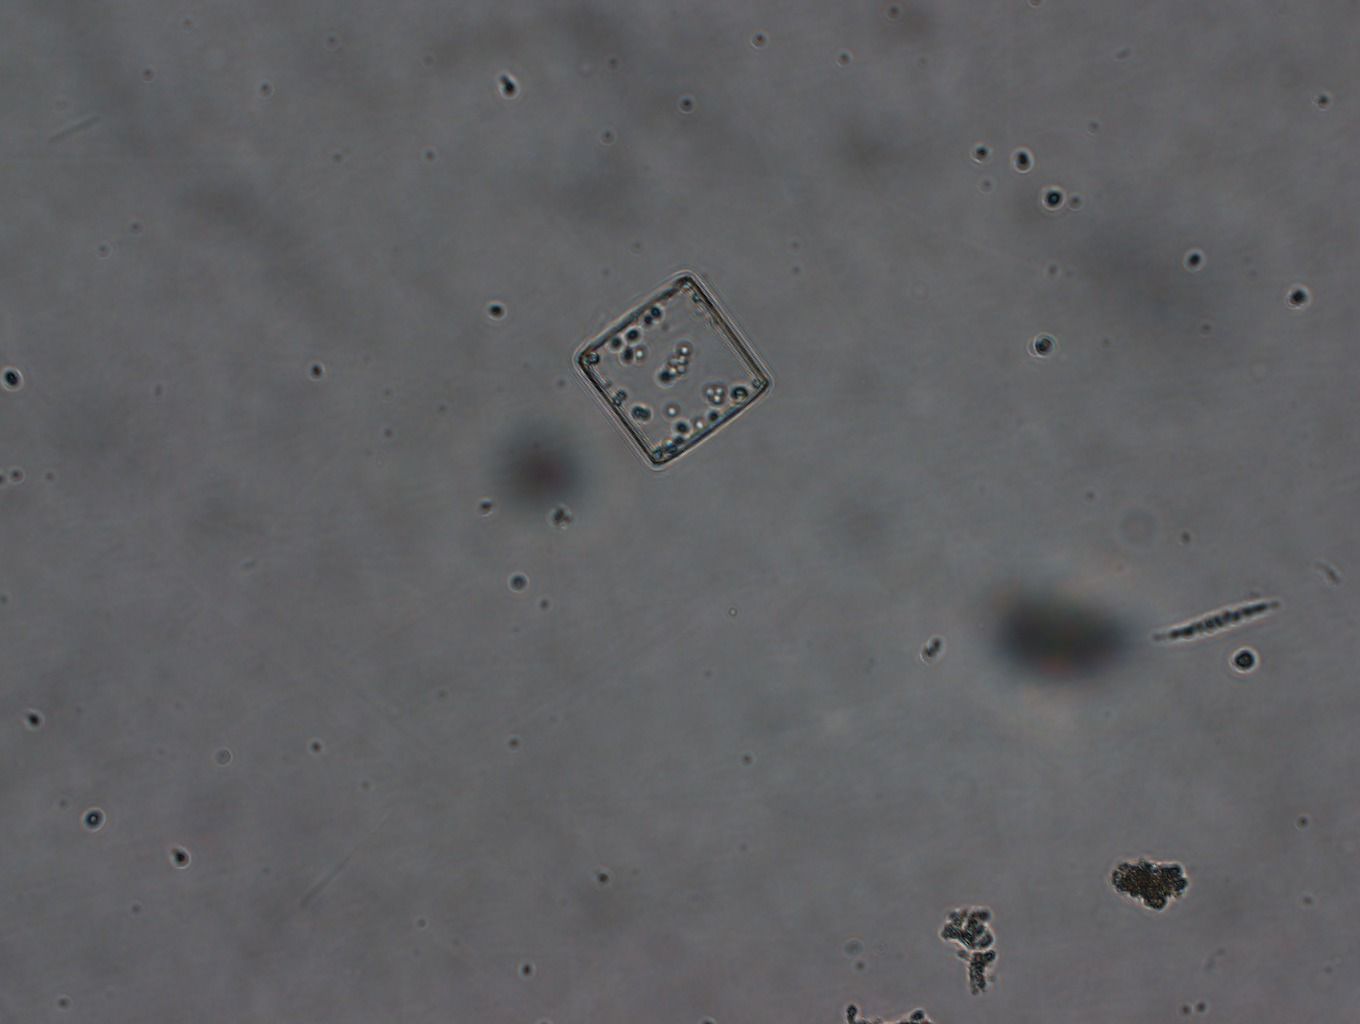guinardia flaccida: (573, 272, 773, 472)
